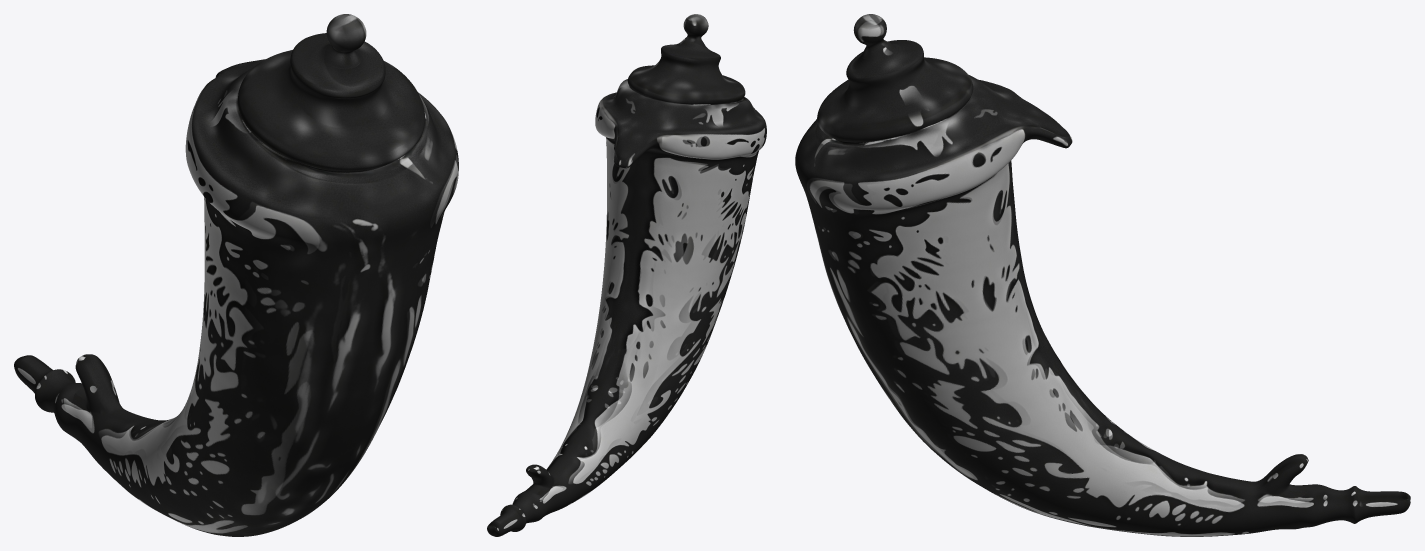
The model's file is flask.glb.
The picture shows the model from 3 angles, left to right: view 1: azimuth 30°, elevation 25°; view 2: azimuth 150°, elevation 25°; view 3: azimuth 270°, elevation 25°; orthographic projection. The views are drawn at different scales.
Visible parts, largest first — view 1: tripo_node_5d227f5d-410e-4a79-8c79-bccd05548b03; view 2: tripo_node_5d227f5d-410e-4a79-8c79-bccd05548b03; view 3: tripo_node_5d227f5d-410e-4a79-8c79-bccd05548b03.
Part boxes in pixels (x1,y1,x2,y2): tripo_node_5d227f5d-410e-4a79-8c79-bccd05548b03: (14, 14, 458, 536); tripo_node_5d227f5d-410e-4a79-8c79-bccd05548b03: (487, 14, 766, 536); tripo_node_5d227f5d-410e-4a79-8c79-bccd05548b03: (795, 14, 1410, 536).
Size of the model in its own units: 0.3683 by 0.9294 by 1.
1 material, 1 textured.
